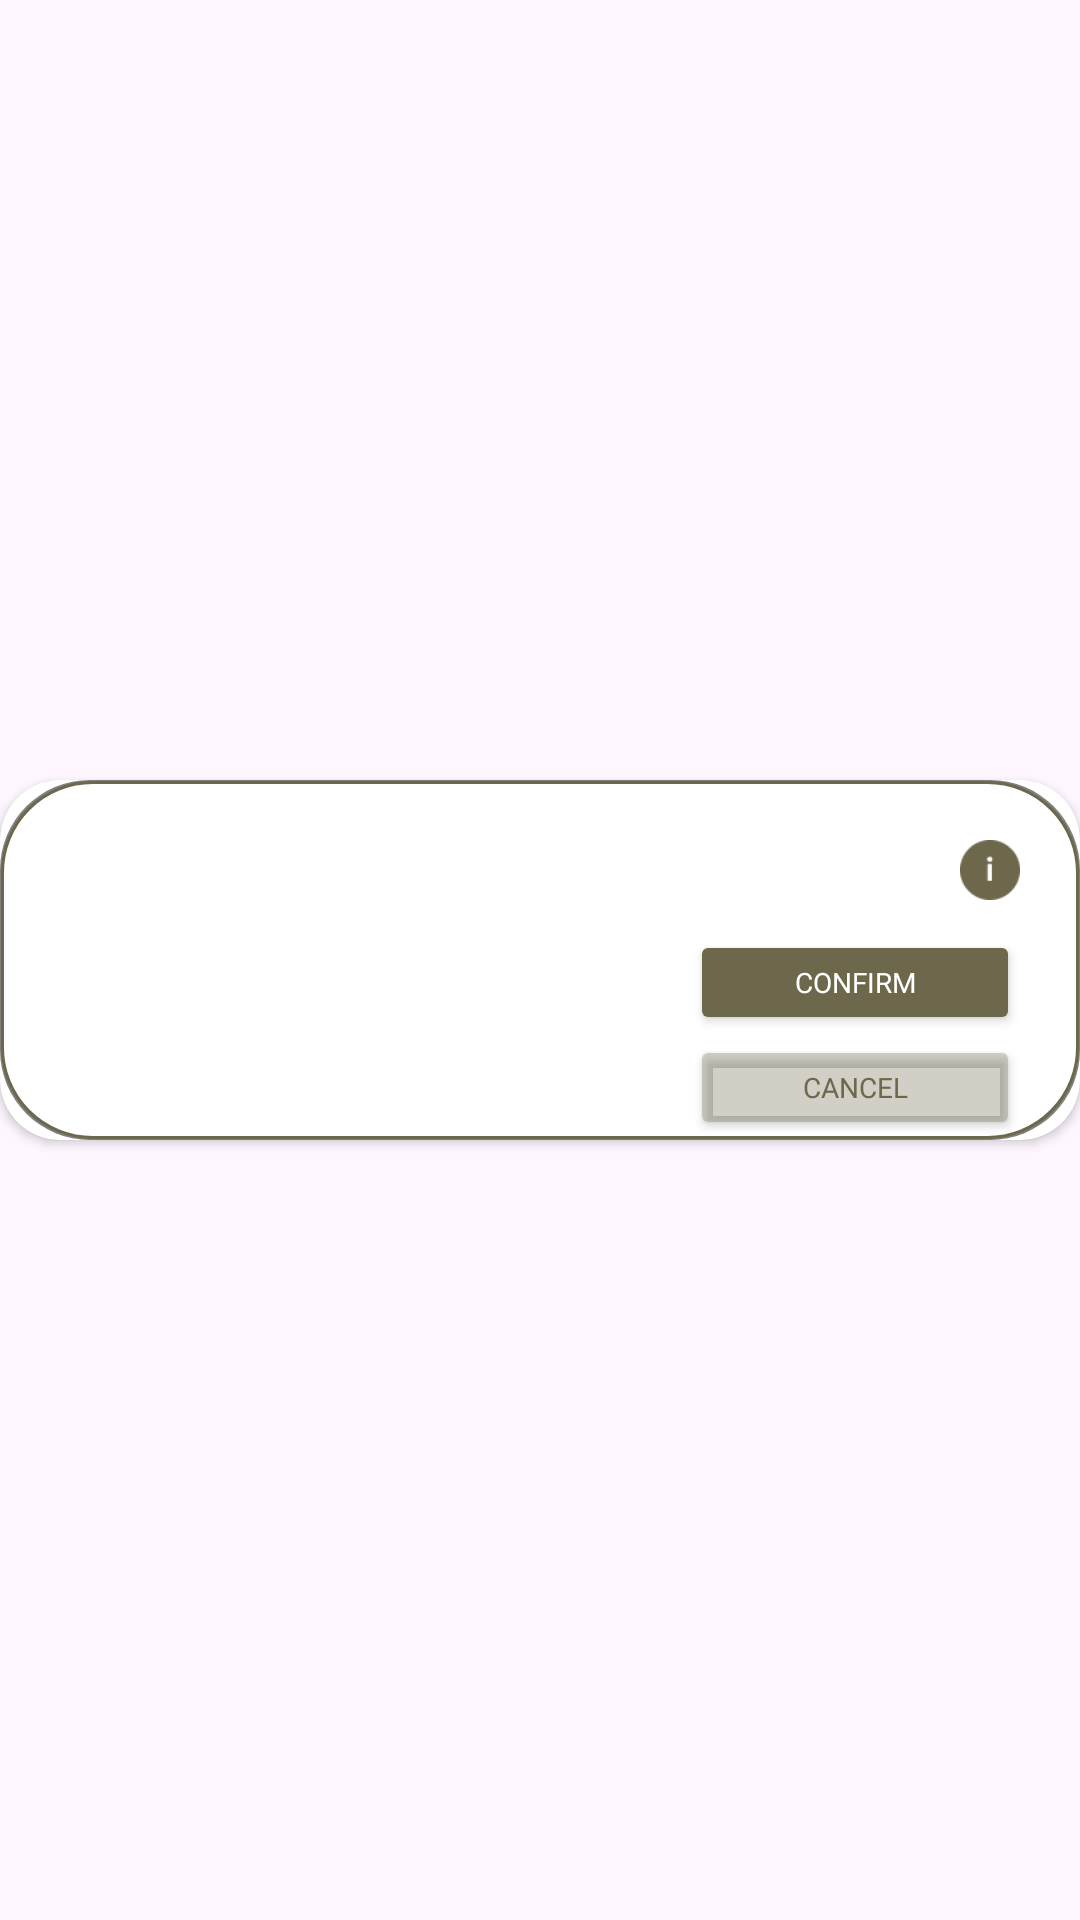

Screen size 1080w x 1920h. Icon name, then its center in pixels as (x=x, y=y):
info: (x=990, y=870)
